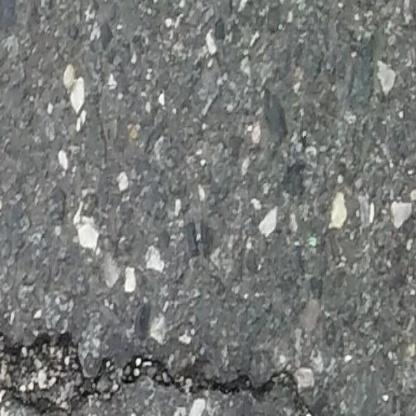Cracks: (0, 329, 338, 416)
